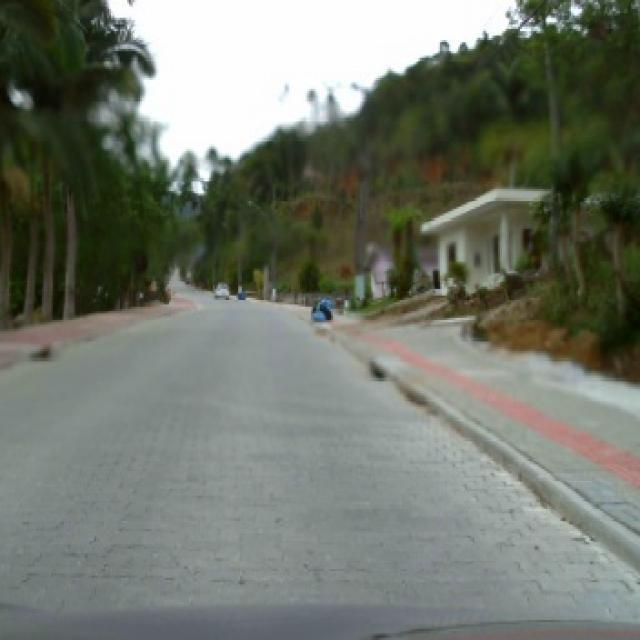Poth-hole: (368, 358, 386, 378), (26, 344, 50, 358)
